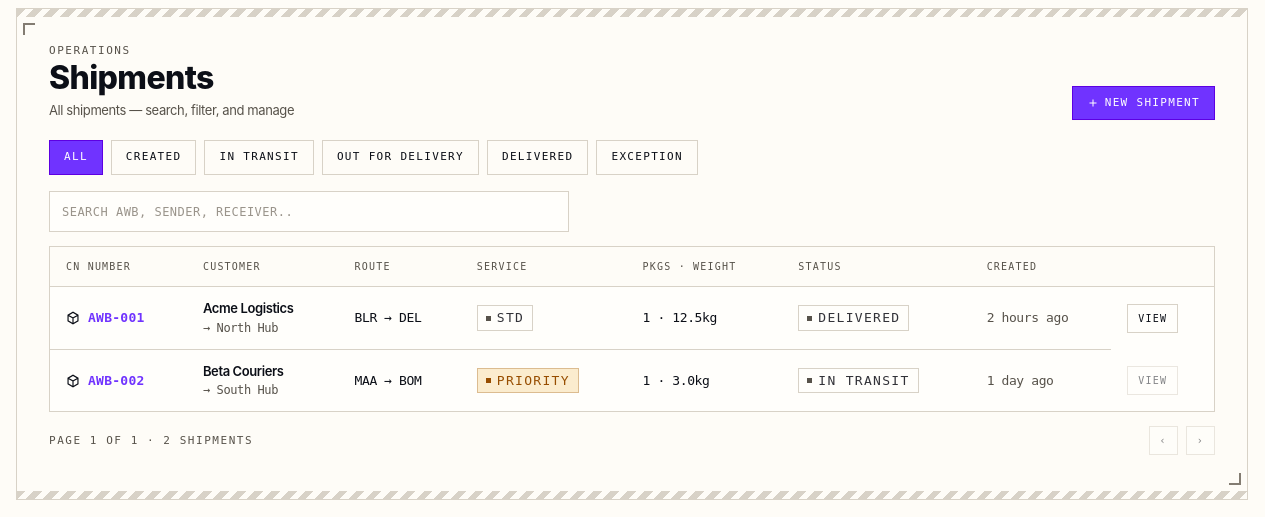
it: OpsShipmentsView › filters rows by the active status tab
Click the tab "Delivered" at (538, 158), box [487,140,588,175]
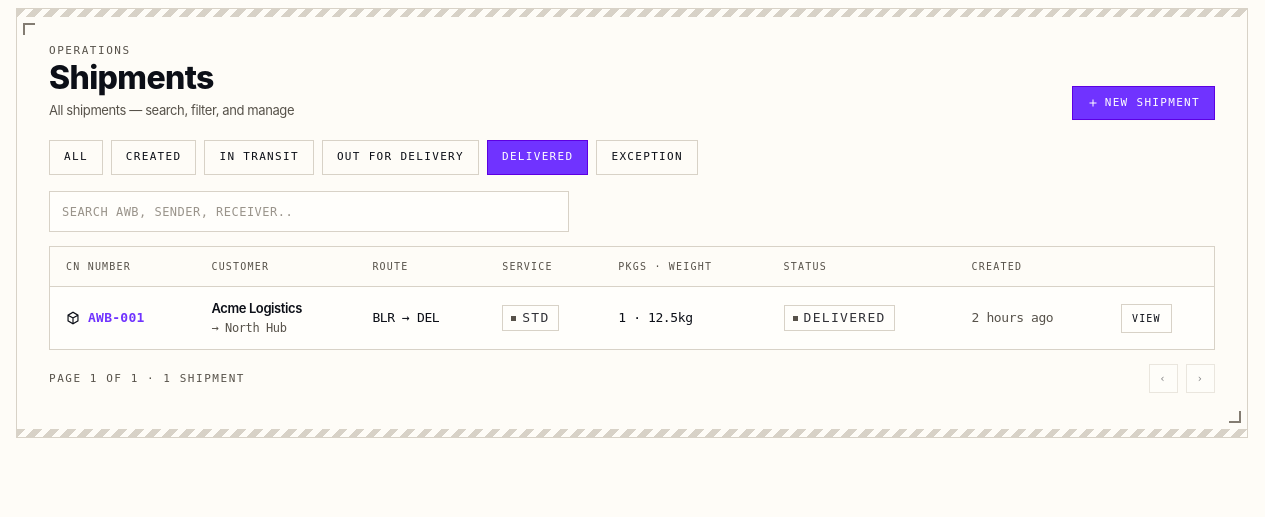
expect the text "AWB-001" is shown: met, box [88,308,145,328]
expect the text "AWB-002" is gone: met
